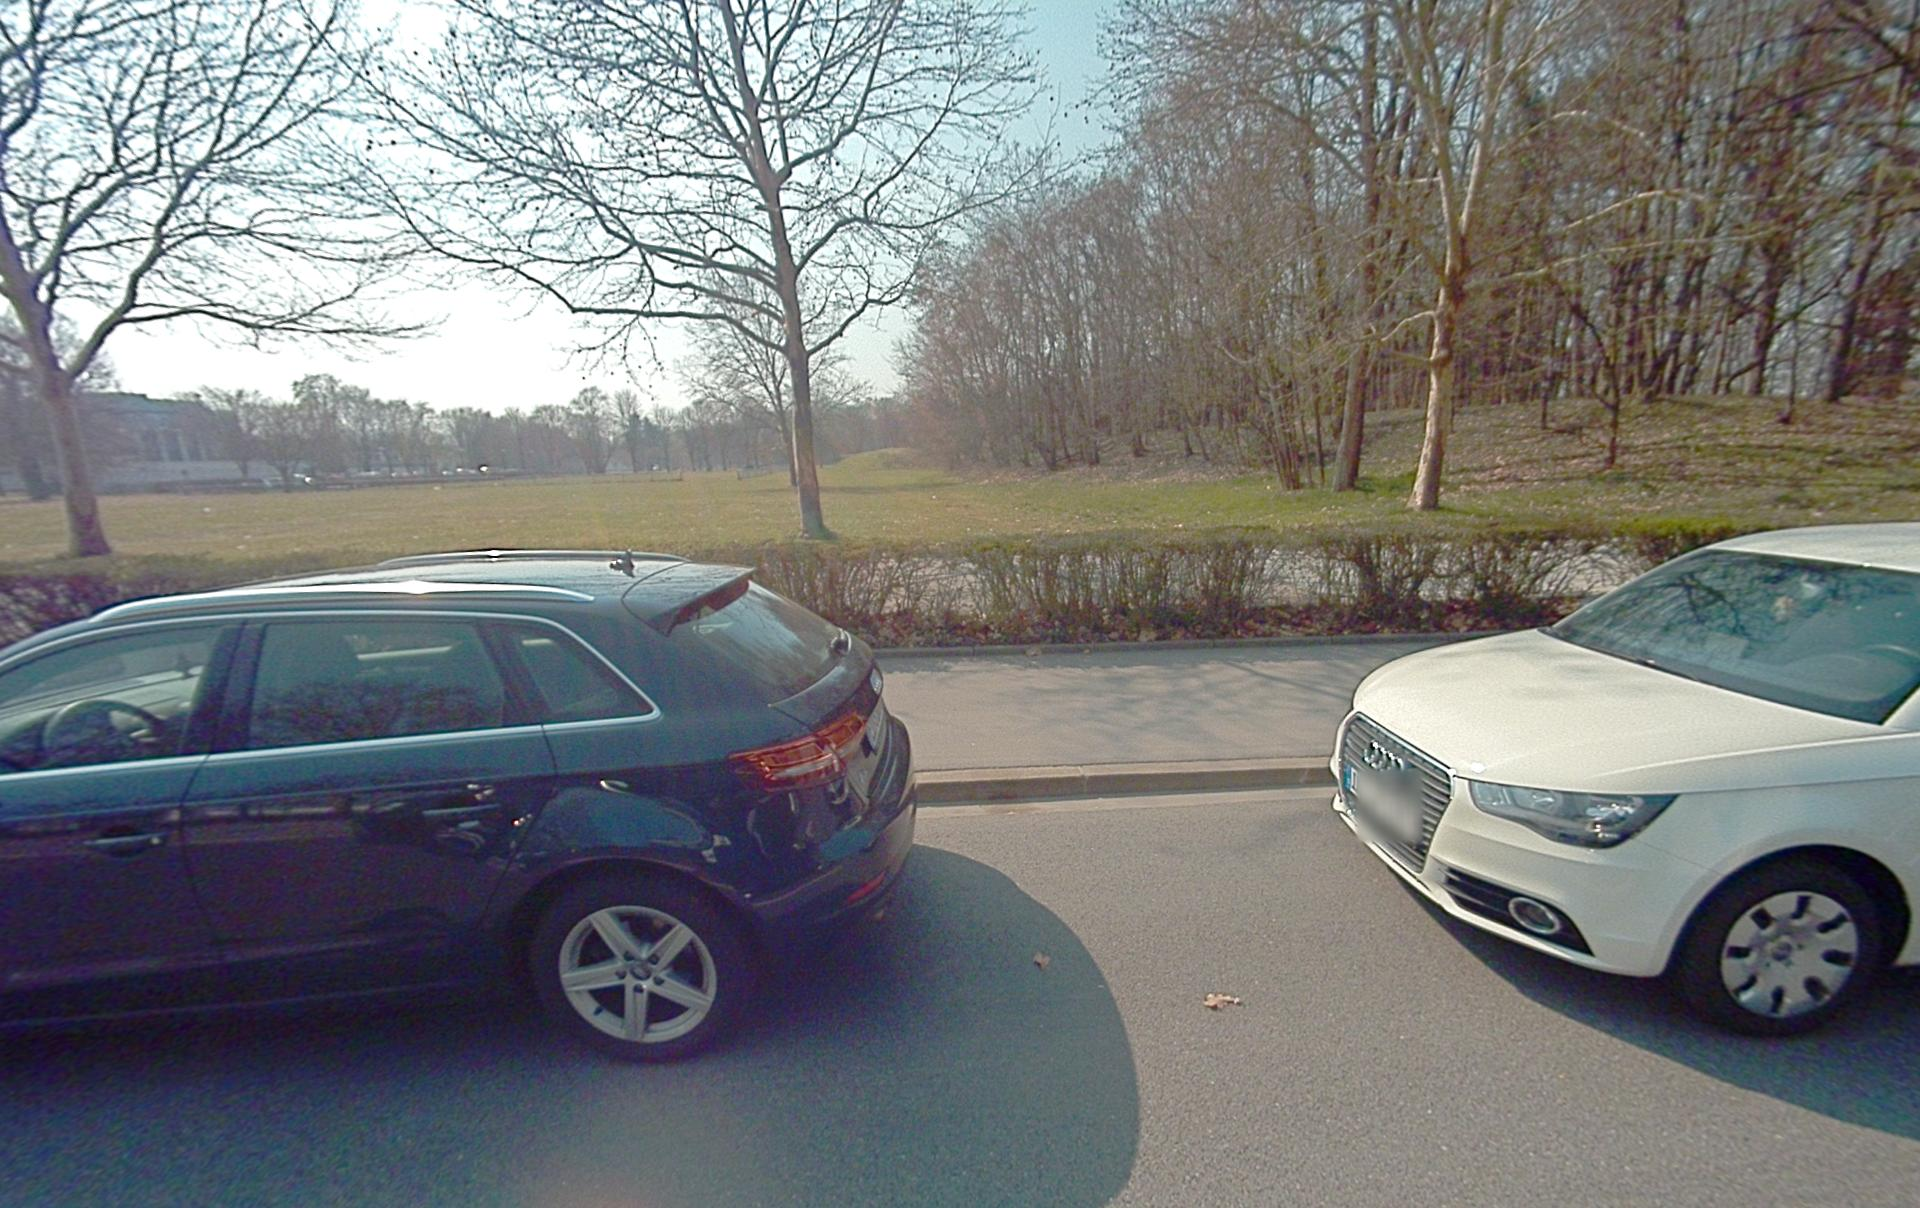car: (0, 547, 919, 1063), (1329, 520, 1919, 1037)
